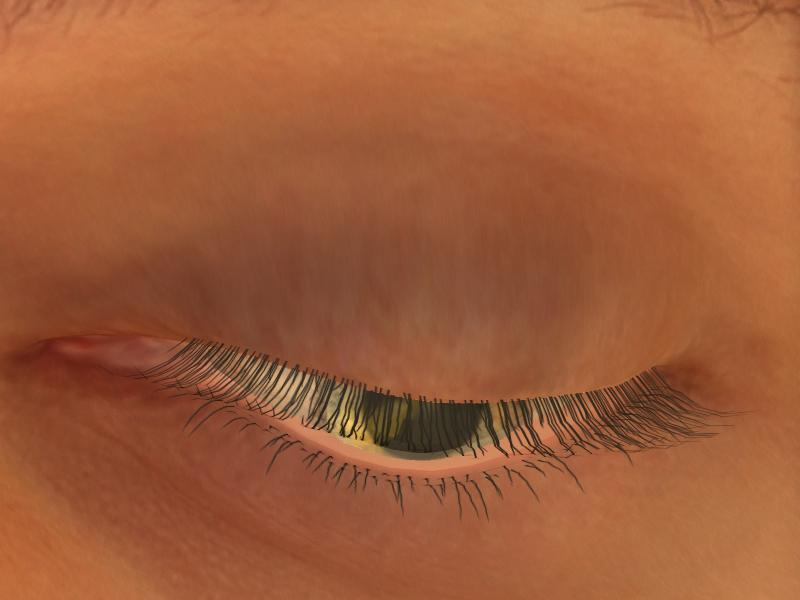eye: (329, 377, 539, 460)
